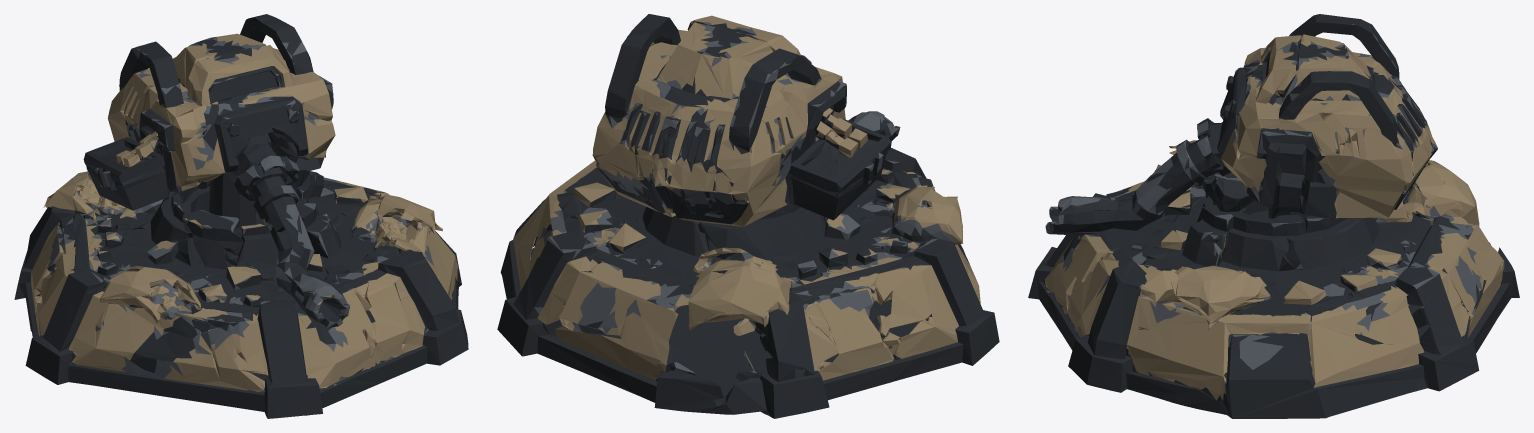
File: mg7-destruida.glb
The picture shows the model from 3 angles, left to right: view 1: azimuth 30°, elevation 25°; view 2: azimuth 150°, elevation 25°; view 3: azimuth 270°, elevation 25°; orthographic projection. The views are drawn at different scales.
Parts seen in each view (by area): view 1: hull; view 2: hull; view 3: hull.
Part boxes in pixels (x1=…): hull: x1=14, y1=14, x2=468, y2=418; hull: x1=497, y1=14, x2=999, y2=418; hull: x1=1028, y1=14, x2=1519, y2=418.
Size of the model in its own units: 1 by 0.6156 by 0.9996.
